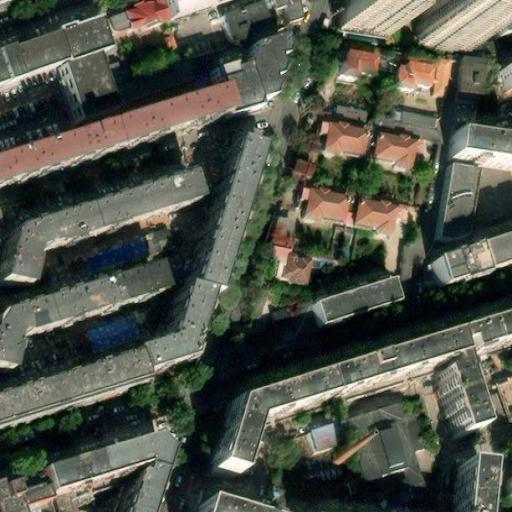building: (210, 330, 454, 472), (0, 176, 189, 285), (0, 269, 158, 373), (181, 155, 260, 310), (96, 10, 178, 106), (36, 432, 165, 490), (127, 300, 208, 391), (0, 17, 97, 80), (214, 37, 288, 119), (312, 286, 400, 337), (431, 229, 512, 279), (48, 51, 104, 118), (249, 301, 318, 351), (430, 352, 474, 423), (431, 163, 472, 237), (446, 309, 512, 352), (82, 311, 140, 357), (345, 394, 406, 434), (368, 101, 436, 136), (298, 395, 337, 456), (399, 3, 452, 45), (366, 427, 404, 484), (368, 136, 423, 175), (349, 200, 404, 239), (257, 247, 308, 289), (342, 0, 395, 38), (316, 126, 369, 164), (298, 190, 351, 228), (198, 489, 278, 512), (455, 53, 491, 104), (120, 461, 153, 512), (450, 134, 510, 161), (338, 49, 373, 89), (455, 464, 483, 512), (397, 54, 431, 93), (265, 218, 294, 252), (495, 377, 512, 418), (328, 101, 360, 119), (496, 57, 512, 85), (292, 165, 313, 183), (11, 502, 47, 512)
